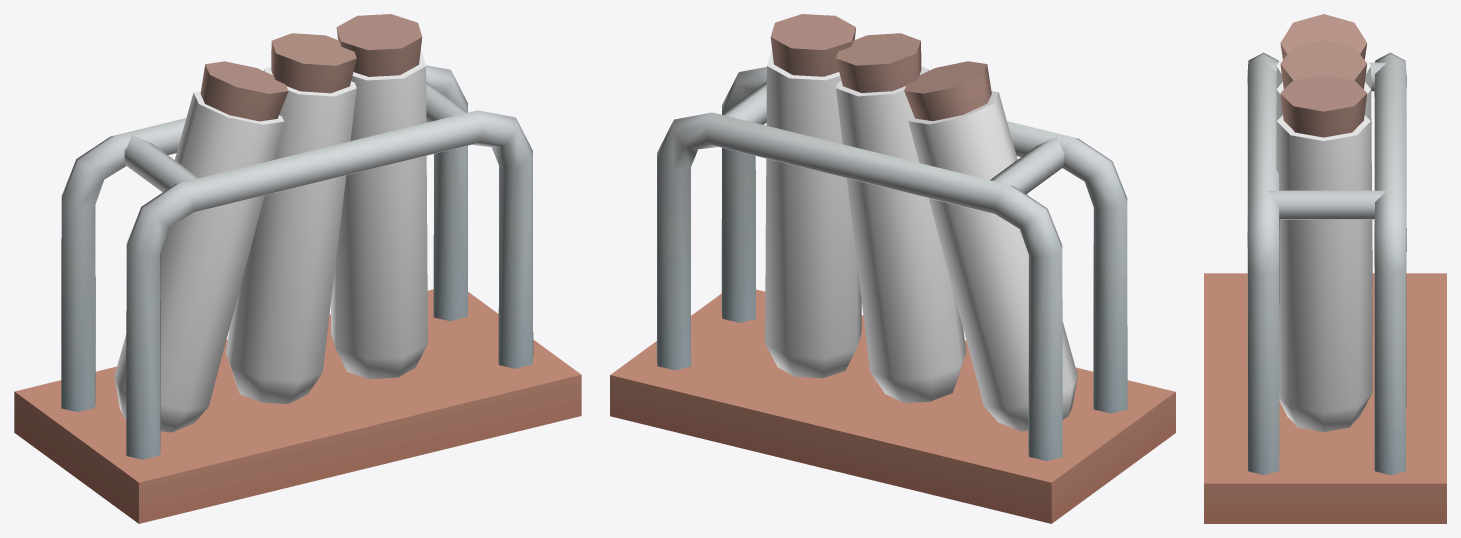
Rendered from Pfb_JLAB_Test_Tube_Rack.fbx.
The picture shows the model from 3 angles, left to right: view 1: azimuth 30°, elevation 25°; view 2: azimuth 150°, elevation 25°; view 3: azimuth 270°, elevation 25°; orthographic projection. The views are drawn at different scales.
Parts seen in each view (by area): view 1: Color, Glass; view 2: Color, Glass; view 3: Color, Glass.
Part boxes in pixels (x1,y1,x2,y2): Color: [14, 14, 581, 523]; Glass: [114, 50, 427, 432]; Color: [610, 14, 1175, 523]; Glass: [765, 50, 1077, 431]; Color: [1204, 14, 1446, 523]; Glass: [1276, 57, 1372, 431].
Size of the model in its own units: 0.4477 by 0.3647 by 0.2183.
2 materials, 2 textured.
